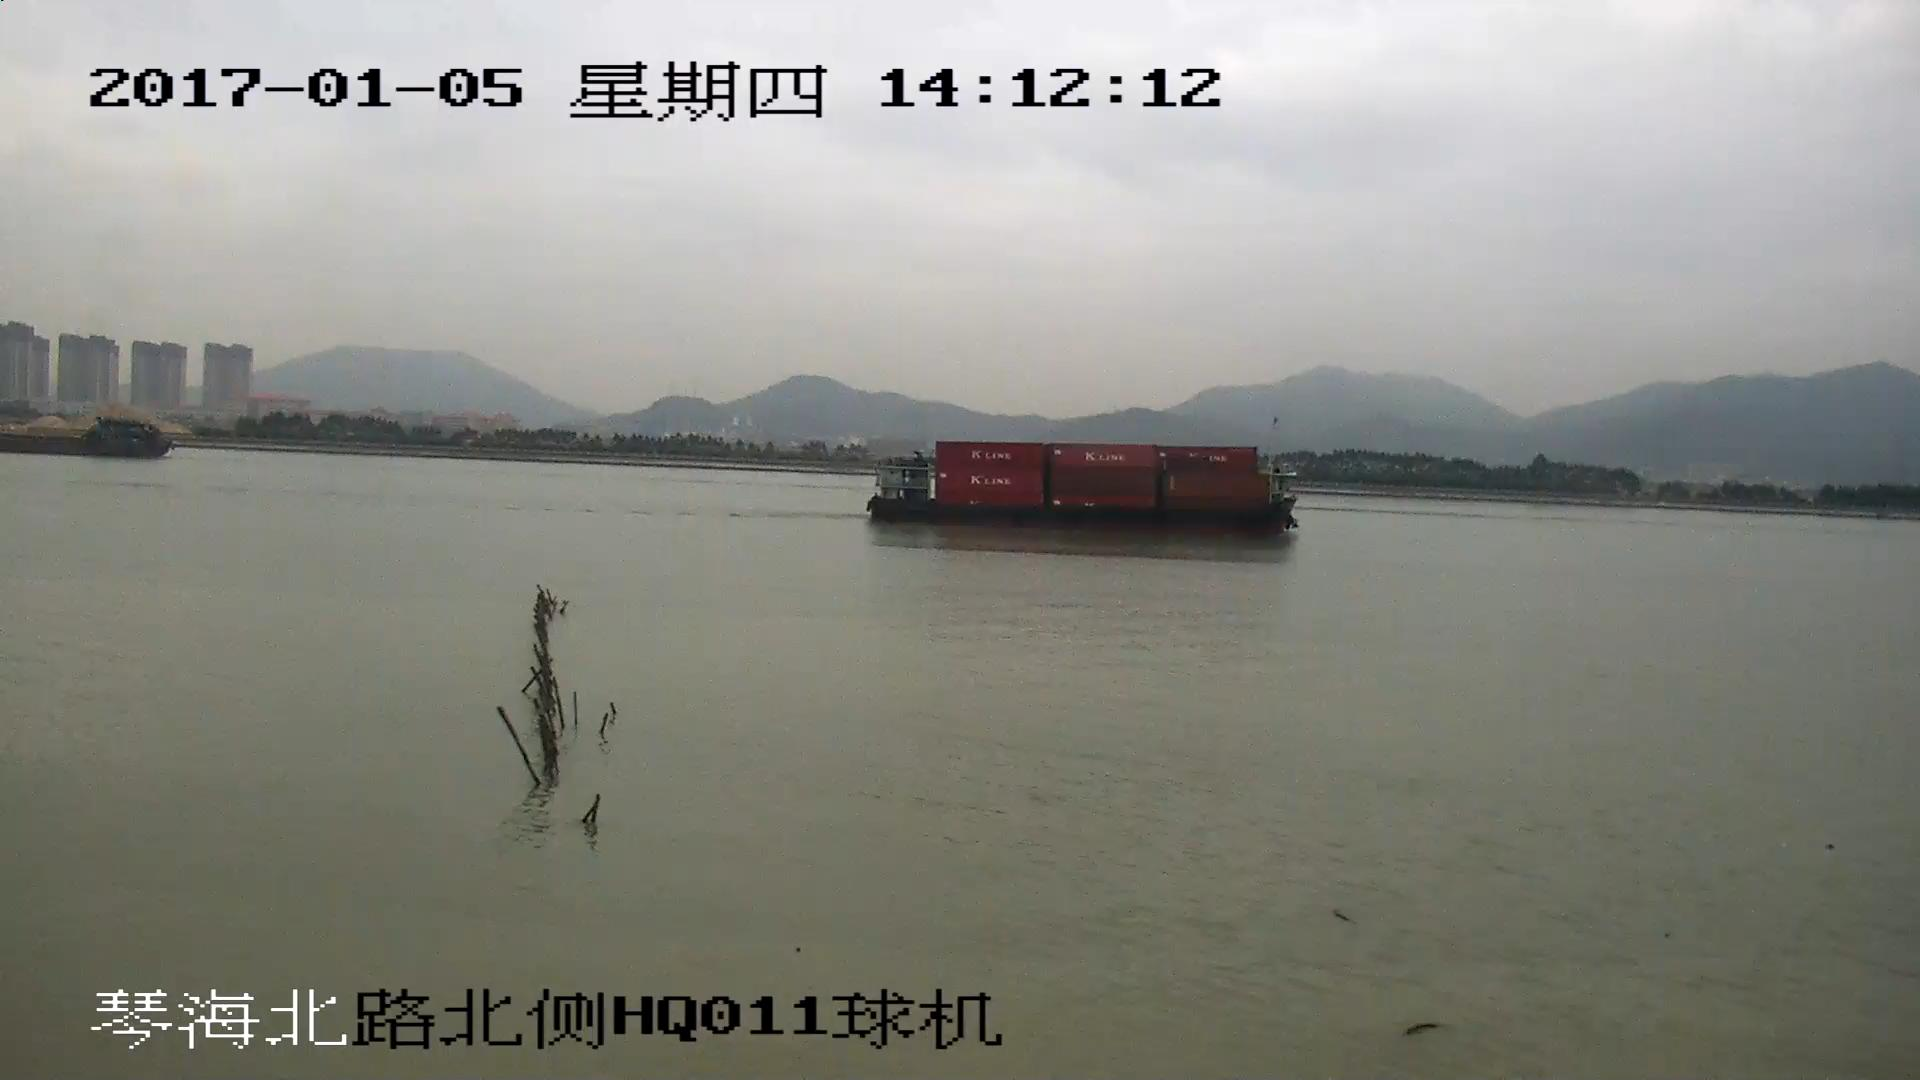bulk cargo carrier: (1, 425, 170, 461)
container ship: (859, 439, 1298, 537)
